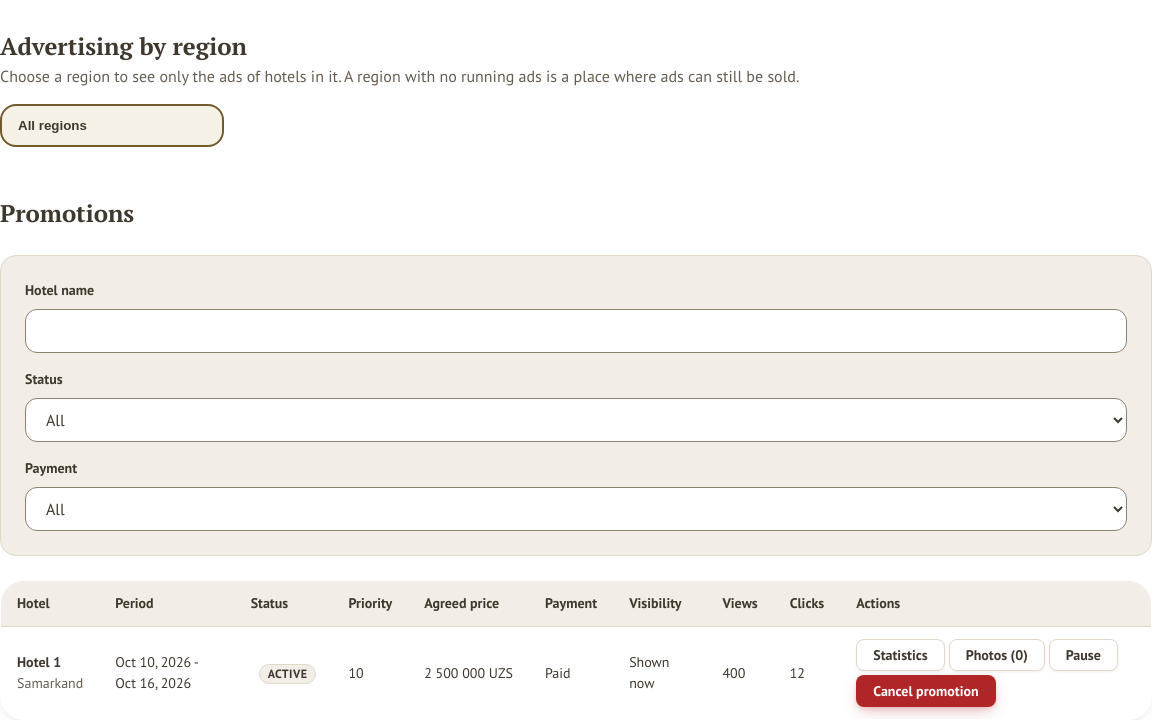
Scenario: AdminPromotions › cancel › shows the backend error inside the dialog and keeps it open
(page scrolled)
Click the button "Cancel promotion" at (926, 691), box [856,675,996,707]
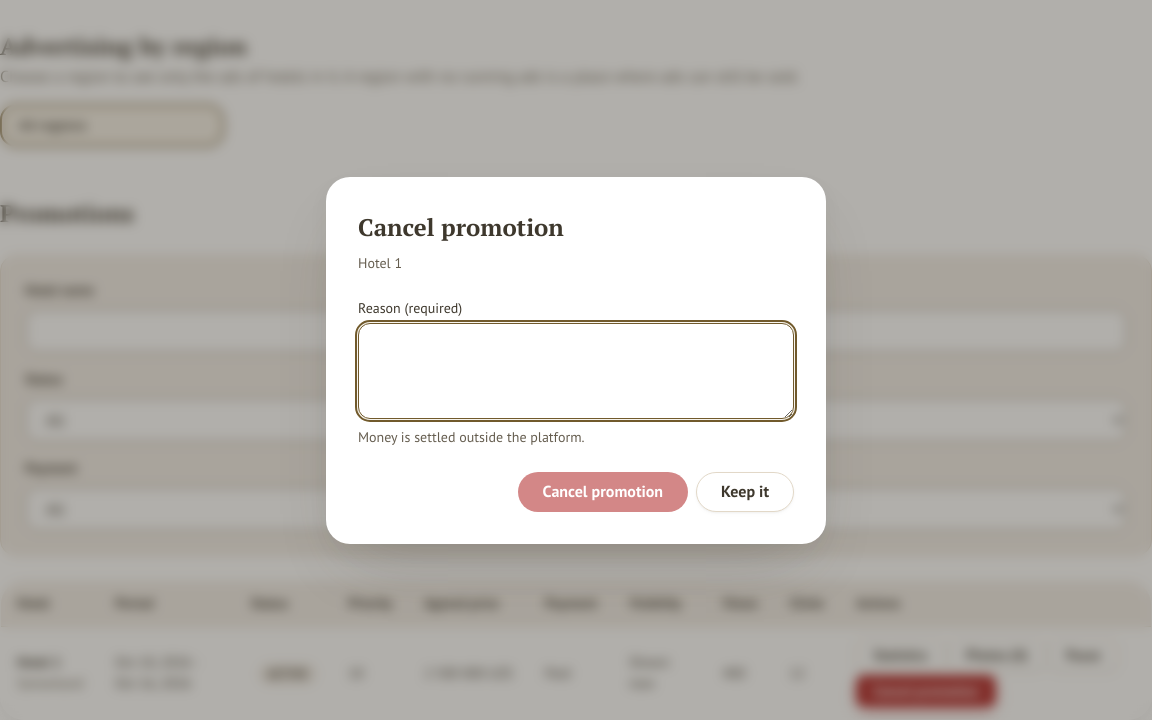
Type "because" into the text box labelled "Reason (required)" at (576, 370), box [358,322,794,418]
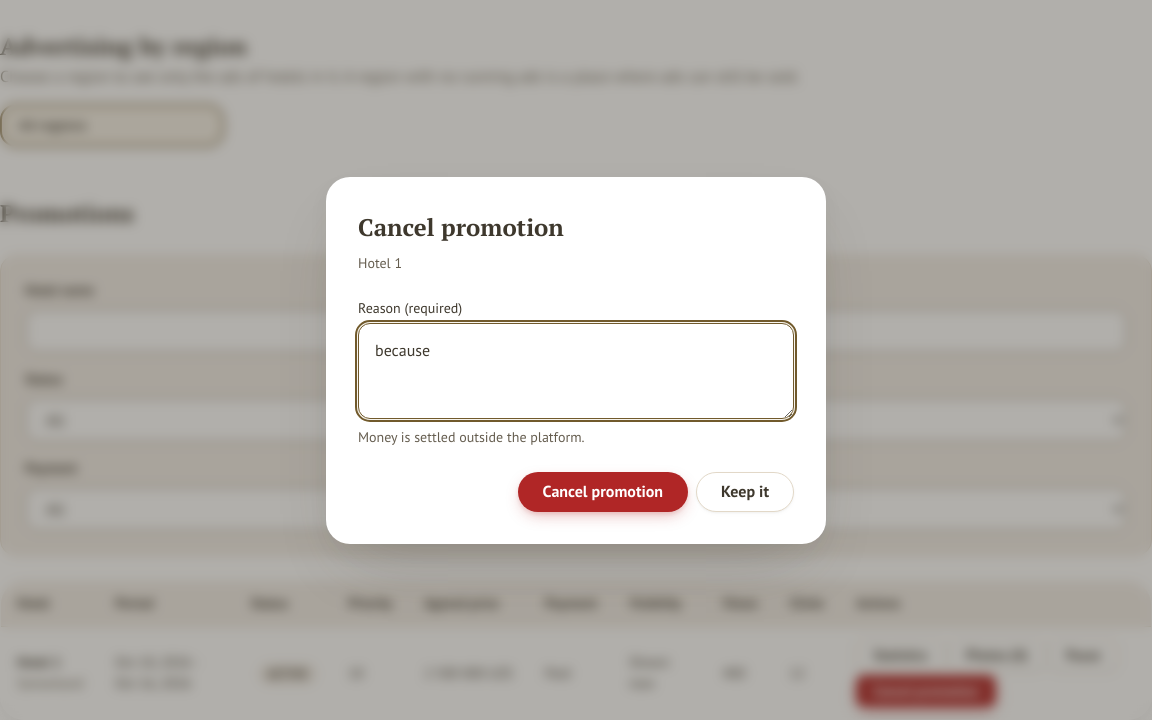
Click the button "Cancel promotion" at (603, 492), box [518,472,688,512]
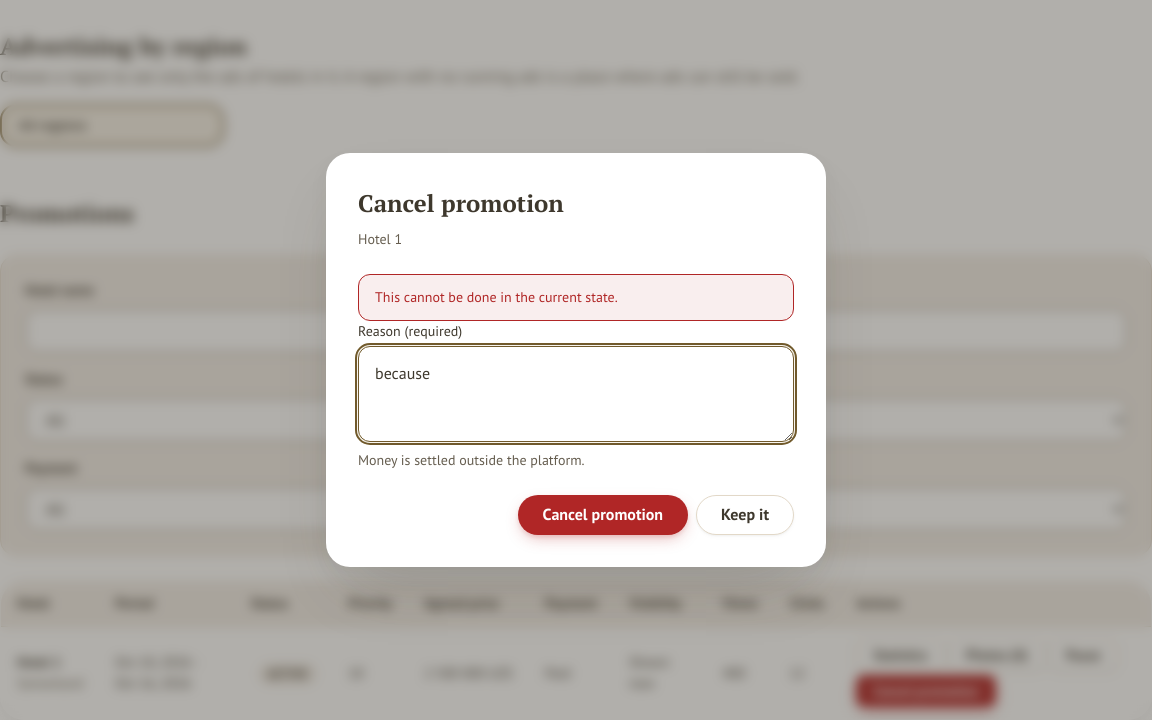
Expected: the dialog is shown
Expected: the message reads "This cannot be done in the current state.", [375,288,618,306]
